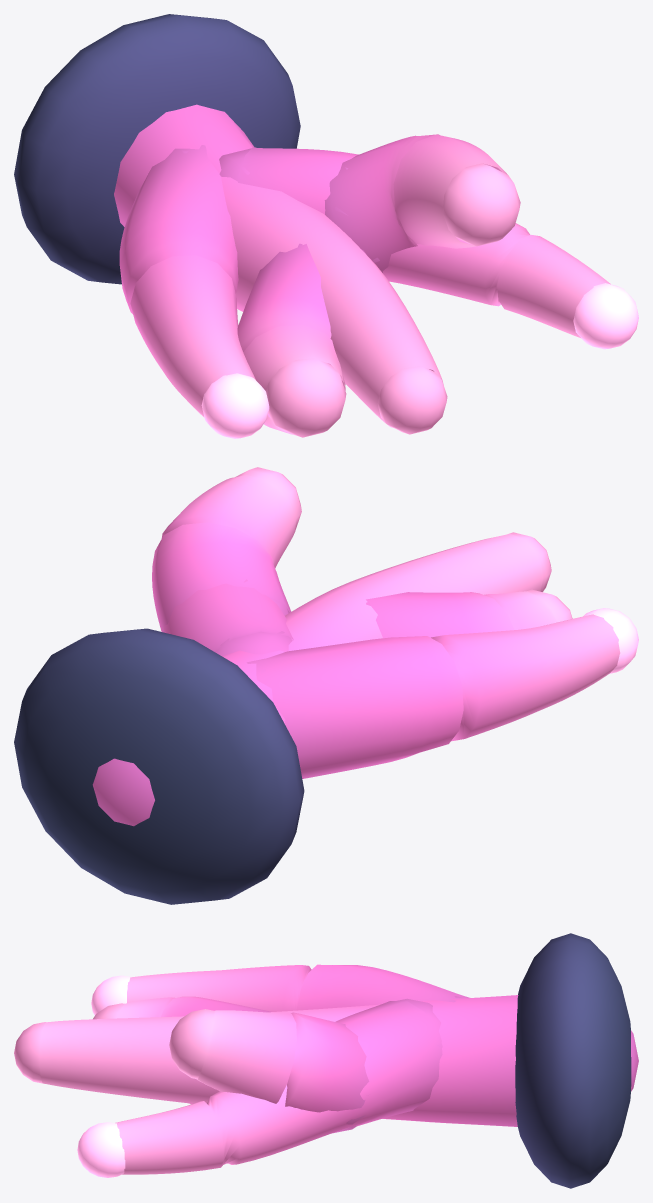
The model's file is SpalakhSmoothCoralPink_v099.glb.
The picture shows the model from 3 angles, top to bottom: view 1: azimuth 30°, elevation 25°; view 2: azimuth 150°, elevation 25°; view 3: azimuth 270°, elevation 25°; orthographic projection. The views are drawn at different scales.
Parts seen in each view (by area): view 1: game_asset; view 2: game_asset; view 3: game_asset.
Part boxes in pixels (x1,y1,x2,y2): game_asset: (14,14,638,438); game_asset: (14,467,638,904); game_asset: (14,933,638,1188).
Size of the model in its own units: 0.604 by 0.3545 by 0.898.
